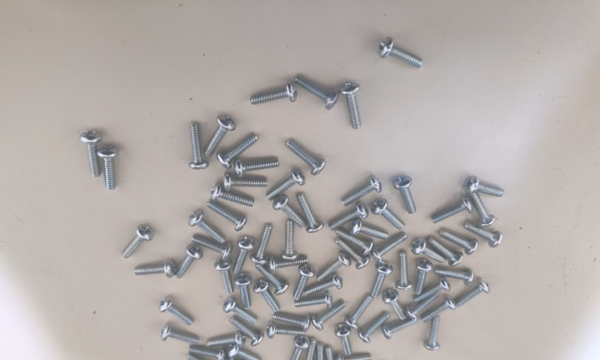shortscrew: (295, 75, 339, 111), (286, 138, 326, 176), (379, 37, 425, 69), (217, 134, 259, 169), (203, 115, 236, 158), (334, 235, 371, 272), (341, 174, 383, 206), (189, 209, 225, 245), (266, 170, 307, 201), (207, 201, 248, 232), (272, 195, 308, 229), (249, 82, 297, 107), (371, 232, 409, 263), (310, 300, 348, 331), (229, 315, 264, 348), (191, 234, 233, 261), (432, 196, 474, 223), (297, 192, 324, 234), (316, 251, 353, 281), (80, 130, 103, 178), (256, 264, 290, 296), (122, 225, 153, 260), (159, 295, 194, 326), (454, 278, 490, 308), (372, 200, 406, 231), (440, 229, 479, 256), (335, 230, 374, 257), (428, 237, 463, 267), (346, 293, 375, 329), (223, 296, 259, 325), (97, 144, 119, 191), (465, 223, 504, 249), (412, 276, 451, 302), (211, 184, 255, 207), (175, 244, 203, 280), (253, 278, 281, 314), (357, 314, 391, 343), (406, 293, 441, 321), (340, 83, 361, 129), (234, 158, 280, 179), (190, 121, 209, 171), (251, 223, 273, 265), (233, 236, 256, 276), (393, 176, 417, 214), (267, 254, 309, 275), (349, 218, 389, 240), (371, 261, 394, 299), (382, 316, 418, 340), (303, 274, 344, 295), (423, 295, 456, 321), (472, 193, 497, 227), (161, 325, 201, 346), (412, 239, 447, 263), (464, 176, 505, 196), (295, 264, 317, 301), (435, 267, 475, 287), (280, 219, 299, 261), (224, 174, 267, 192), (383, 289, 407, 321), (133, 261, 177, 278), (215, 258, 235, 295), (395, 250, 413, 291), (206, 331, 246, 349), (274, 314, 311, 333), (267, 322, 306, 340), (415, 260, 434, 295), (295, 293, 334, 310), (235, 273, 253, 309), (424, 316, 442, 351), (335, 324, 353, 356), (228, 344, 264, 360), (290, 335, 311, 360), (300, 338, 318, 360), (335, 352, 373, 360), (313, 343, 329, 360), (324, 346, 343, 360), (187, 353, 222, 360), (225, 356, 262, 360)
